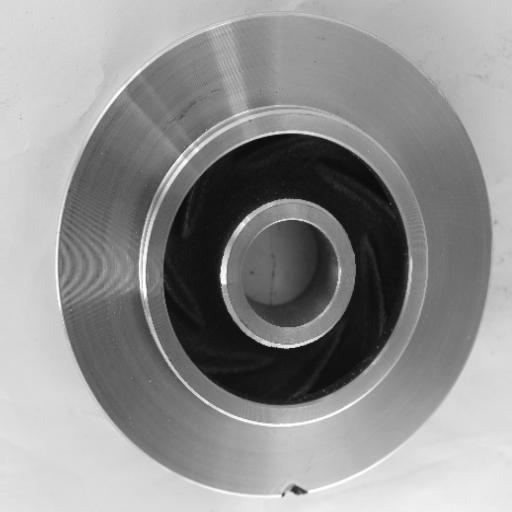crack: (270, 474, 318, 508)
unpolished_casting: (53, 12, 493, 499)
